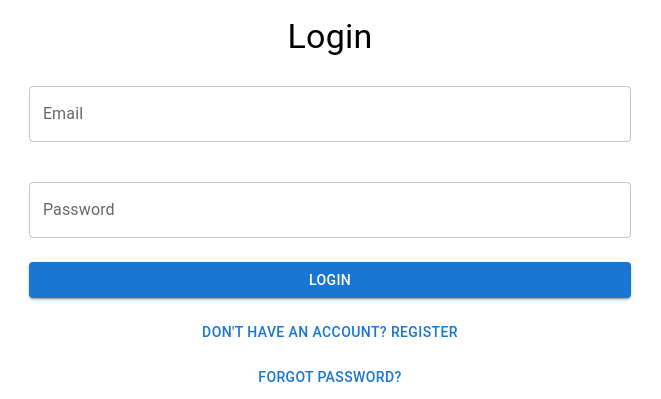
Test: AuthForm Component › handles toggle mode correctly
Click the button "Don't have an account? Register" at (330, 333), box [194,314,466,351]
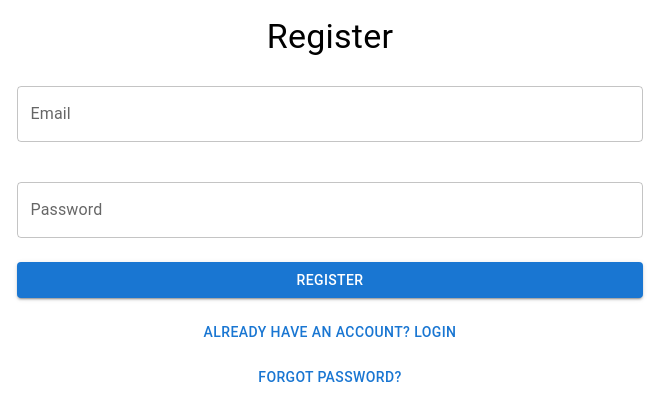
Result: the heading "Register" is shown at [267,16,393,58]
